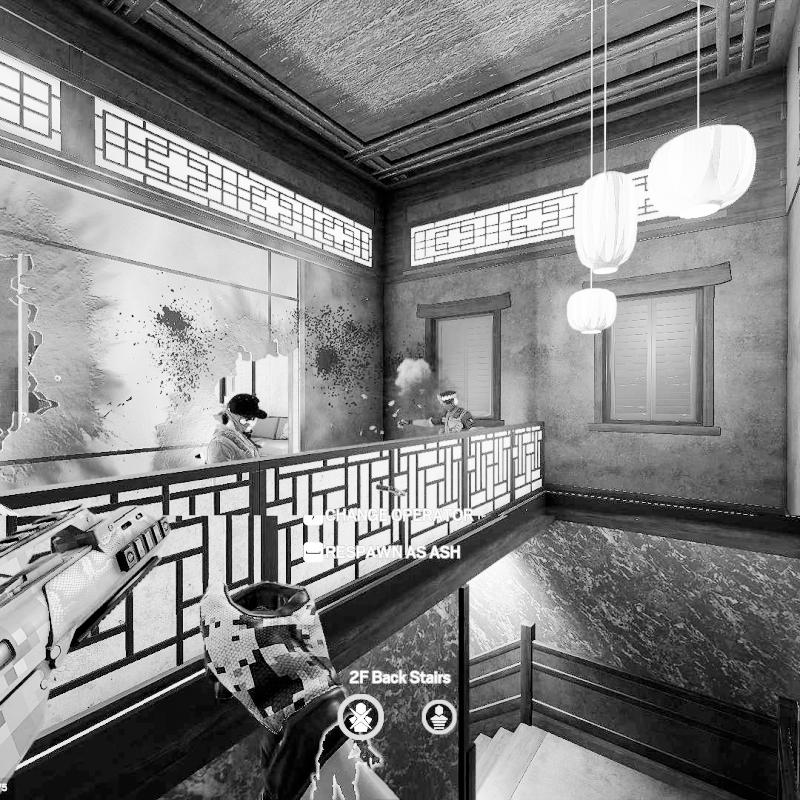Character: (203, 388, 273, 467), (396, 388, 477, 435), (437, 389, 459, 413)
Head: (227, 391, 264, 435)
